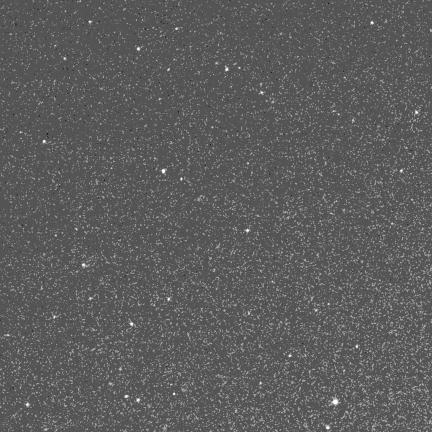blob: (333, 398, 338, 405), (130, 322, 134, 327), (82, 263, 86, 268), (371, 21, 375, 25), (136, 398, 140, 402), (400, 169, 404, 173), (176, 27, 180, 31), (119, 367, 123, 371), (246, 229, 250, 232), (89, 21, 92, 25), (26, 403, 29, 407), (137, 47, 140, 51), (168, 68, 171, 72), (326, 426, 330, 429), (162, 169, 165, 173), (248, 312, 251, 316), (289, 354, 292, 358), (89, 297, 93, 300), (225, 67, 228, 71), (125, 395, 129, 398), (43, 140, 46, 143), (173, 393, 176, 396), (415, 111, 418, 114), (181, 178, 184, 181), (168, 297, 170, 301), (260, 382, 262, 386), (64, 57, 66, 60)
